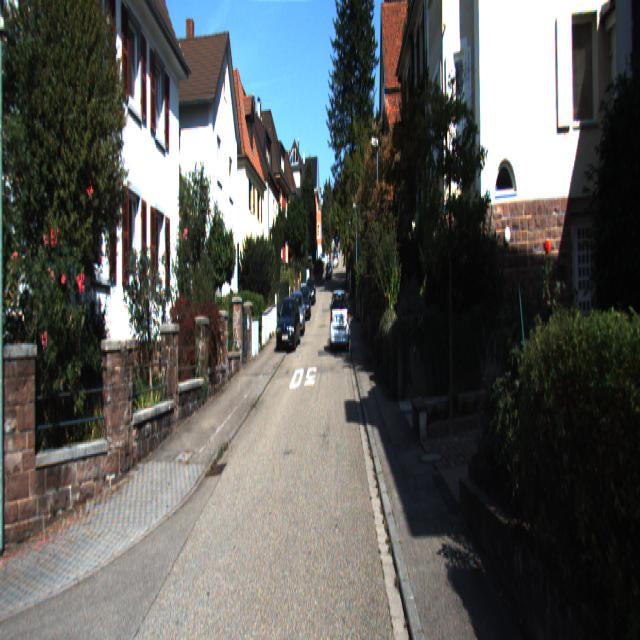Car: (275, 297, 303, 352), (330, 287, 350, 353), (289, 291, 306, 337)
